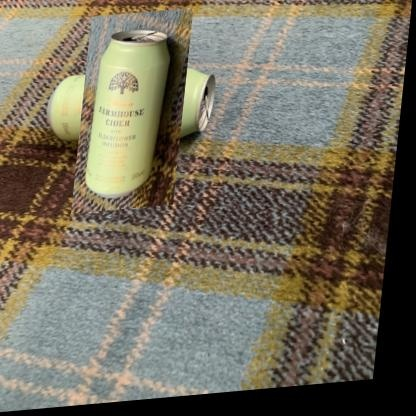trash: (86, 30, 169, 196), (47, 75, 84, 140), (181, 68, 214, 136)
